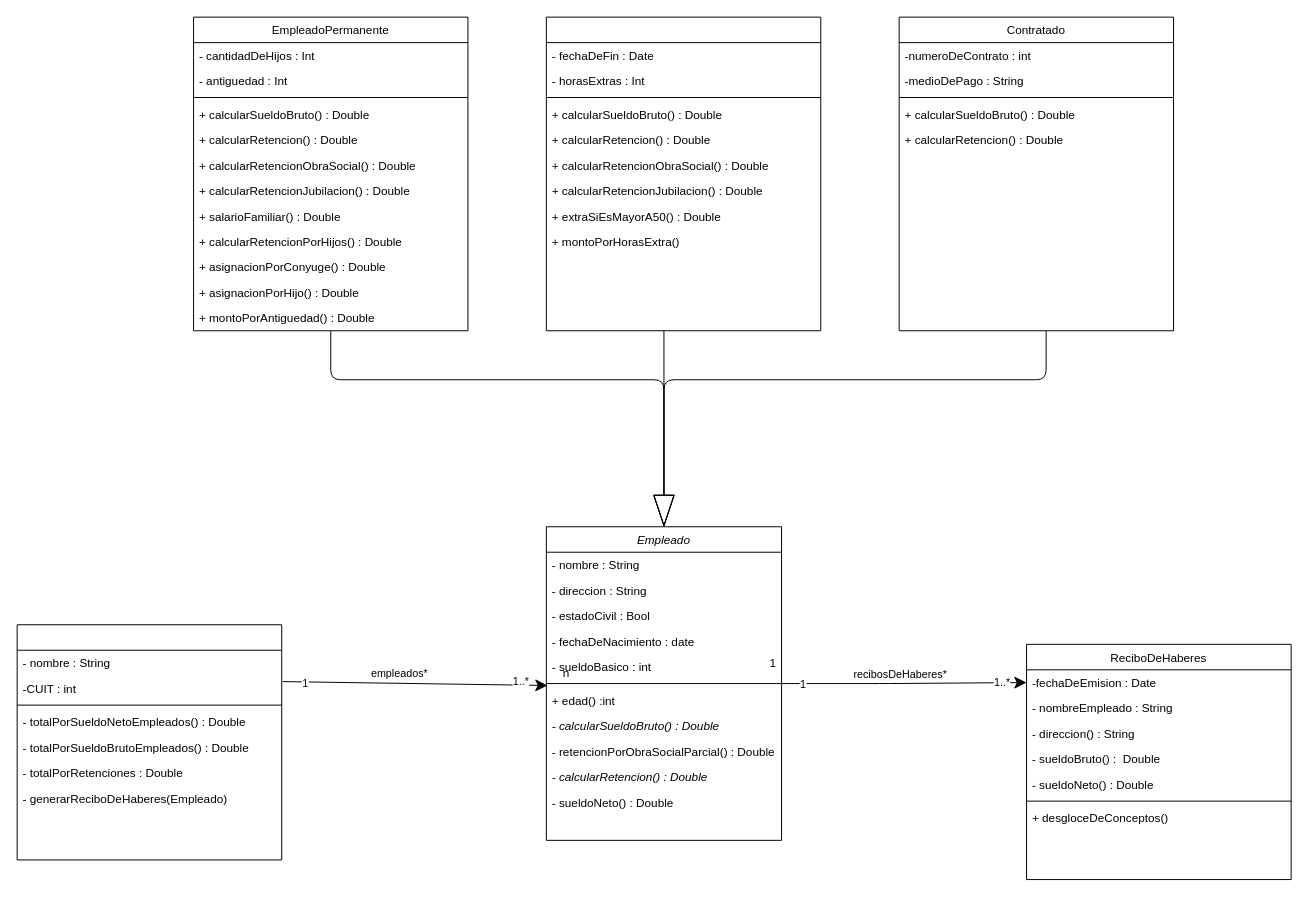
Some shapes in this 1308 by 897 pixel diagram are drawn without their labels. The box of each missing label's shape, as (x1, y1, x2, y2) in pixels:
EmpleadoTemporal: (545, 16, 821, 331)
Empresa: (16, 624, 282, 860)
